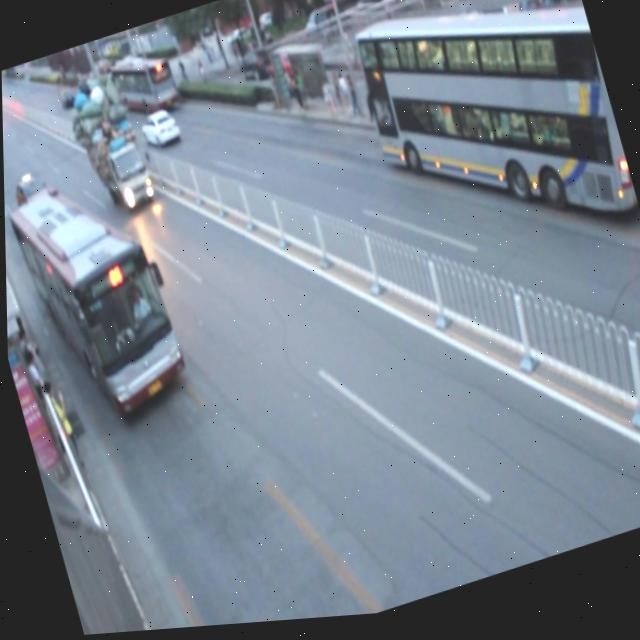bus: (64, 70, 155, 222)
car: (9, 166, 56, 220), (137, 105, 182, 156)
van: (350, 0, 637, 284), (4, 164, 192, 439), (106, 47, 180, 124)
